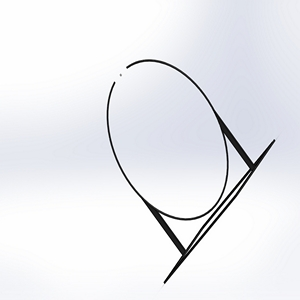circle: (104, 54, 278, 283)
